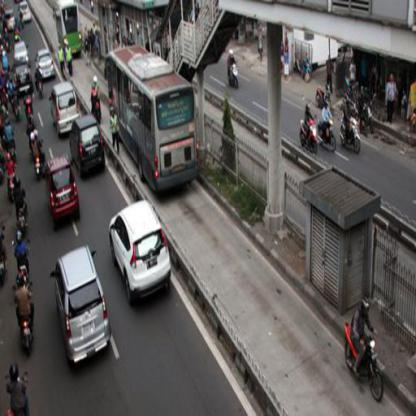bus: (104, 46, 206, 194), (51, 0, 90, 61)
car: (52, 247, 115, 366), (111, 204, 175, 305), (44, 158, 84, 226), (67, 115, 104, 177), (49, 80, 80, 132), (10, 64, 36, 92), (36, 53, 56, 77)
motorbike: (341, 322, 387, 401), (1, 372, 34, 415), (15, 284, 35, 354), (12, 237, 34, 284), (339, 113, 364, 151), (297, 115, 320, 156), (315, 118, 338, 150), (14, 192, 29, 232), (30, 142, 46, 178), (226, 61, 244, 86)
